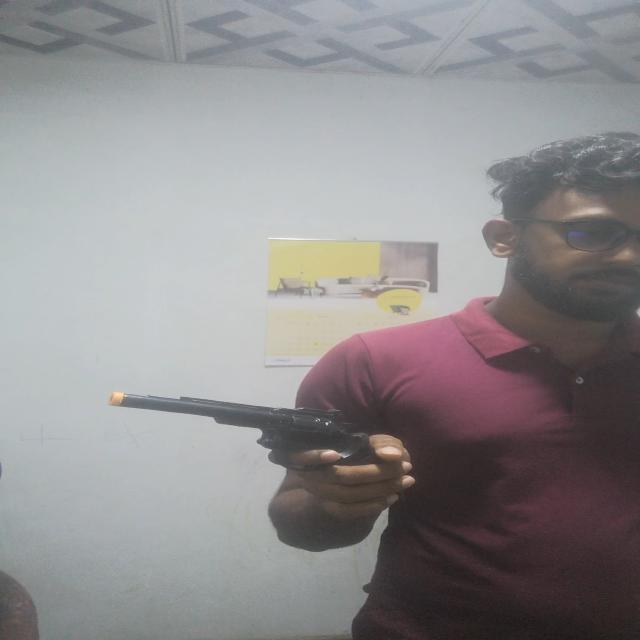Gun_Holder: (104, 386, 453, 525)
Person: (281, 147, 639, 640)
